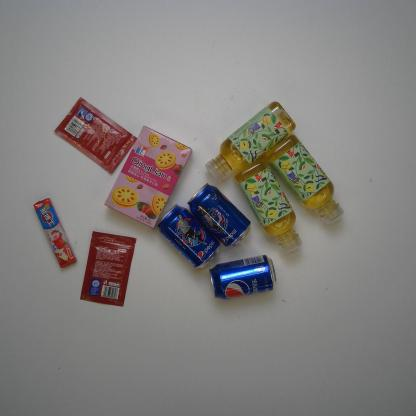Candy: (34, 196, 76, 269)
Dessert: (104, 126, 192, 227)
Drink: (206, 98, 297, 183), (266, 132, 344, 227), (233, 161, 303, 253), (157, 203, 222, 269), (190, 181, 250, 247), (207, 256, 276, 300)
Seasoner: (52, 97, 139, 171), (77, 230, 136, 305)
